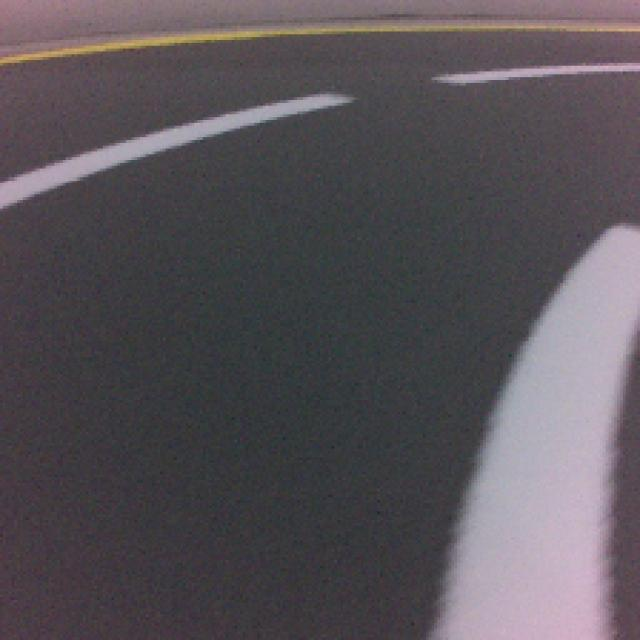Pedestrian crosswalk: (437, 223, 640, 640)
